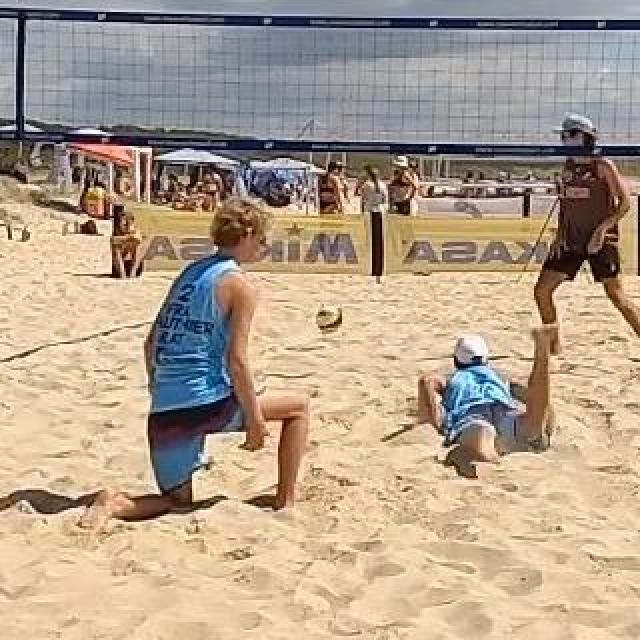volleyball: (316, 305, 342, 333)
